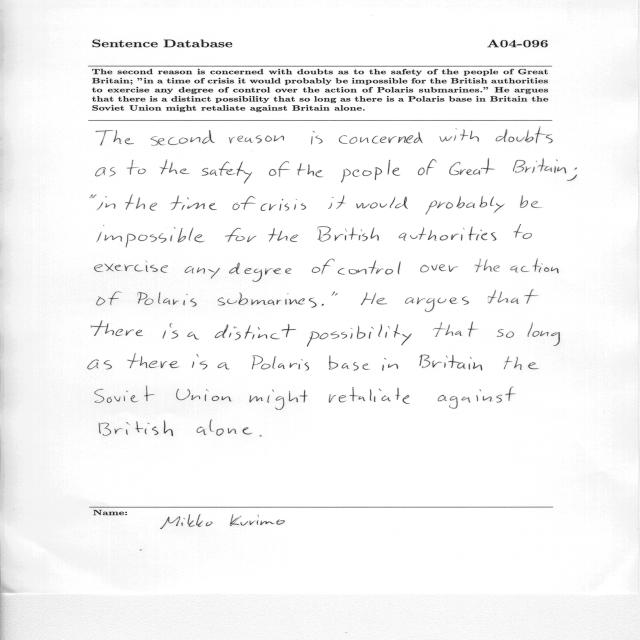word: (97, 225, 205, 248), (307, 324, 412, 347), (438, 387, 516, 409), (425, 196, 505, 215), (218, 293, 317, 308), (399, 226, 497, 241), (329, 387, 410, 404), (341, 160, 400, 183), (215, 324, 296, 340), (249, 389, 308, 410), (99, 420, 173, 436), (229, 263, 291, 282), (202, 161, 252, 184), (151, 130, 215, 146), (405, 296, 469, 312), (339, 132, 423, 144), (420, 355, 483, 371), (95, 386, 154, 403), (318, 226, 379, 242), (95, 260, 168, 273), (338, 260, 401, 275), (496, 127, 553, 143), (252, 355, 309, 371), (197, 420, 253, 436), (138, 292, 197, 307), (91, 320, 143, 336), (513, 158, 566, 173), (527, 322, 560, 346), (449, 158, 495, 175), (128, 354, 180, 369), (488, 289, 538, 304), (510, 259, 559, 274), (434, 321, 478, 337), (171, 195, 217, 210), (356, 196, 408, 209), (176, 389, 231, 401), (329, 356, 370, 371), (96, 130, 134, 146), (439, 128, 479, 142), (125, 194, 157, 211), (261, 199, 306, 211), (185, 266, 220, 279), (504, 357, 539, 370), (160, 159, 190, 174), (225, 228, 257, 242), (229, 135, 284, 143), (268, 228, 298, 242), (297, 164, 323, 178), (97, 292, 122, 306), (312, 259, 335, 274), (361, 292, 387, 305), (269, 161, 290, 177), (475, 259, 500, 272), (233, 196, 256, 210), (418, 159, 437, 175), (421, 265, 459, 273), (520, 195, 542, 208), (127, 160, 146, 175), (514, 224, 532, 239), (97, 196, 115, 210), (328, 195, 346, 209), (163, 323, 178, 339), (88, 360, 112, 370), (192, 354, 207, 369), (382, 358, 398, 371), (96, 167, 115, 177), (311, 131, 323, 144), (497, 329, 514, 338), (567, 167, 577, 181), (187, 332, 199, 340), (218, 363, 230, 370), (332, 291, 338, 296), (90, 195, 97, 199), (322, 304, 324, 306), (260, 435, 262, 436)
